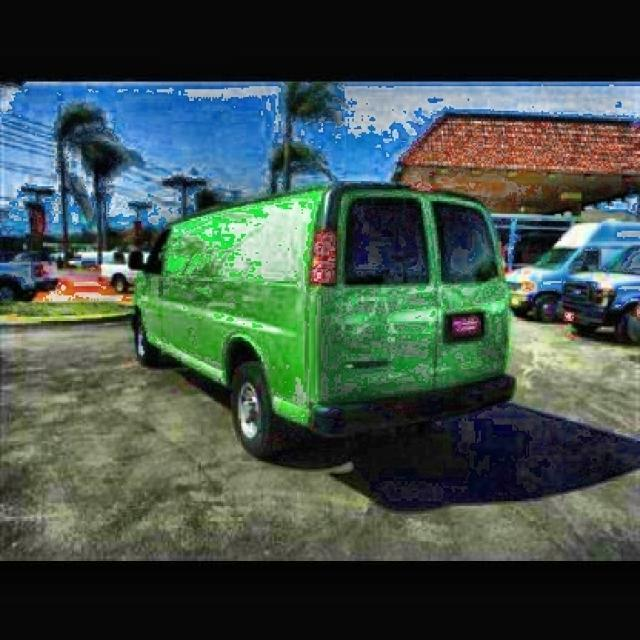green: (112, 203, 497, 431)
